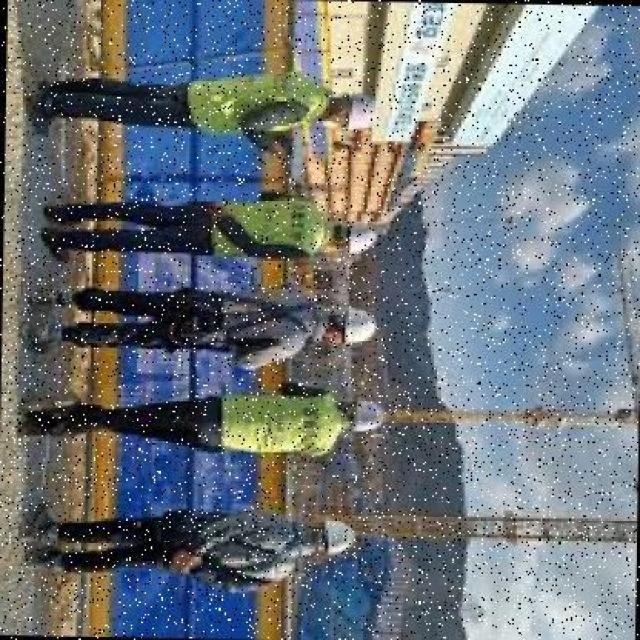Arnes_seguridad: (165, 504, 305, 578), (184, 282, 313, 348)
